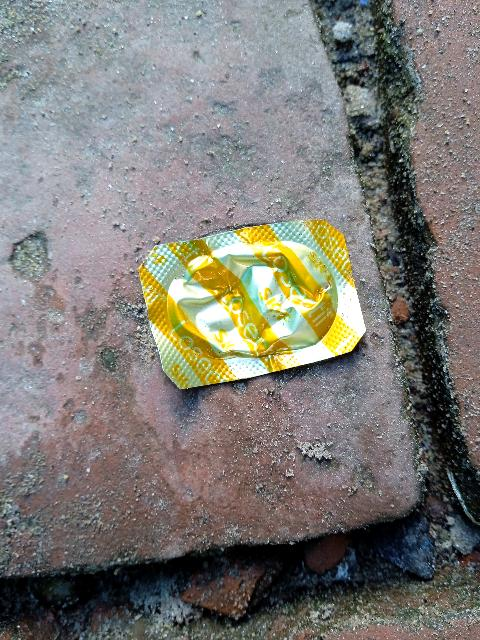medicine: (138, 225, 376, 383)
